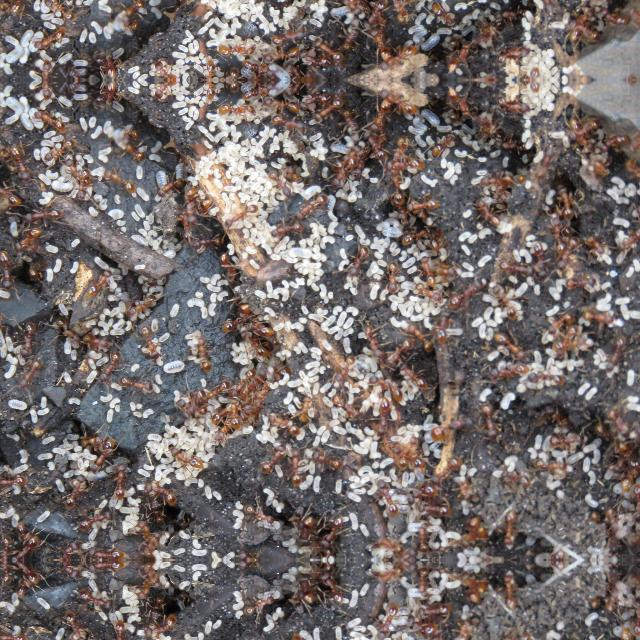Myrmica: (597, 398, 639, 448), (421, 452, 467, 496), (544, 320, 590, 362), (448, 510, 494, 552), (448, 568, 494, 610), (597, 502, 629, 558), (597, 562, 629, 618), (366, 474, 404, 520), (176, 182, 214, 228), (602, 330, 638, 378), (486, 280, 526, 322), (238, 498, 284, 534), (238, 586, 284, 622), (135, 474, 185, 506), (2, 141, 38, 185), (448, 276, 494, 310), (81, 436, 122, 474), (338, 242, 376, 282), (314, 512, 352, 552), (366, 600, 404, 640), (314, 568, 352, 608), (132, 322, 168, 364), (174, 382, 216, 418), (576, 302, 628, 331), (494, 505, 528, 549), (354, 320, 388, 364), (494, 571, 528, 615), (426, 408, 474, 439), (163, 441, 211, 472), (489, 330, 535, 362), (120, 287, 166, 319), (186, 328, 218, 374), (476, 397, 508, 443), (364, 19, 398, 62), (476, 359, 532, 385), (254, 438, 292, 476), (10, 355, 48, 393), (48, 312, 86, 350), (308, 444, 356, 474), (218, 300, 258, 336), (364, 98, 398, 140), (551, 235, 583, 279), (490, 462, 536, 492), (284, 192, 330, 222), (440, 82, 476, 120), (229, 364, 267, 400), (368, 395, 399, 439), (56, 471, 90, 511), (108, 132, 148, 166), (395, 358, 435, 392), (380, 333, 420, 367), (566, 112, 606, 146), (40, 134, 80, 168), (566, 14, 606, 48), (468, 198, 510, 230), (218, 200, 260, 232), (366, 532, 414, 560), (366, 560, 414, 588), (440, 41, 476, 78), (327, 389, 368, 421), (135, 614, 185, 640), (526, 454, 580, 478), (94, 350, 130, 386), (82, 266, 120, 300), (326, 152, 358, 192), (368, 368, 409, 399), (98, 166, 140, 196), (610, 453, 640, 495), (14, 317, 44, 359), (376, 258, 406, 300), (61, 153, 95, 190), (17, 202, 69, 226), (396, 222, 444, 248), (394, 192, 446, 216), (27, 28, 71, 56), (472, 110, 508, 144), (237, 326, 273, 360), (386, 132, 422, 166), (399, 318, 435, 352), (472, 16, 508, 50), (115, 373, 162, 399), (266, 408, 308, 437), (536, 400, 574, 432), (563, 116, 595, 154), (563, 6, 595, 44), (74, 506, 120, 532), (266, 113, 312, 139), (74, 588, 120, 614), (266, 21, 312, 47), (27, 105, 71, 132), (342, 136, 371, 176), (264, 166, 298, 200), (288, 84, 336, 108), (54, 608, 90, 640), (288, 52, 336, 76), (106, 461, 134, 502), (309, 94, 346, 125), (409, 278, 447, 308), (328, 350, 358, 388), (386, 42, 424, 72), (108, 0, 148, 28), (309, 36, 346, 66), (527, 363, 573, 387), (474, 170, 520, 194), (386, 89, 424, 118), (494, 256, 536, 282), (240, 385, 274, 417), (20, 248, 52, 282), (92, 80, 128, 110), (428, 308, 458, 344), (212, 248, 242, 284), (292, 510, 322, 546), (294, 388, 324, 424), (92, 50, 128, 80), (292, 574, 322, 610), (39, 0, 80, 26), (408, 520, 436, 558), (408, 562, 436, 600), (266, 218, 310, 242), (0, 246, 20, 298), (284, 448, 310, 488), (490, 92, 532, 116), (412, 496, 454, 520), (152, 172, 188, 200), (544, 426, 586, 450), (490, 44, 532, 68), (412, 600, 454, 624), (426, 128, 459, 158), (426, 2, 459, 32), (81, 328, 119, 354), (452, 470, 481, 504), (562, 270, 602, 294), (187, 230, 227, 254), (12, 226, 46, 254), (140, 492, 168, 526), (140, 594, 168, 628), (594, 128, 630, 154), (594, 6, 630, 32), (207, 398, 236, 430), (386, 156, 428, 178), (385, 0, 420, 26), (413, 252, 443, 282), (553, 186, 581, 218), (148, 80, 188, 102), (488, 134, 528, 156), (148, 58, 188, 80), (488, 4, 528, 26), (263, 46, 307, 66), (10, 536, 46, 560), (80, 542, 128, 560), (10, 560, 46, 584), (80, 560, 128, 578), (217, 100, 260, 120), (217, 40, 260, 60), (336, 106, 364, 136), (584, 231, 612, 261), (336, 24, 364, 54), (263, 95, 307, 114), (544, 218, 566, 256), (0, 466, 32, 492), (584, 154, 616, 180), (24, 80, 60, 102), (534, 145, 556, 181), (24, 58, 60, 80), (16, 522, 44, 550), (16, 570, 44, 598), (395, 436, 419, 468), (368, 128, 392, 160), (616, 219, 640, 251), (248, 314, 280, 338), (391, 442, 423, 466), (368, 0, 392, 32), (534, 544, 580, 560), (421, 624, 467, 640), (534, 560, 580, 576), (0, 192, 24, 222), (450, 616, 480, 640), (340, 0, 370, 24), (0, 112, 20, 146), (0, 12, 20, 46), (128, 515, 154, 541), (128, 579, 154, 605), (224, 543, 266, 559), (224, 561, 266, 577), (52, 538, 82, 560), (62, 80, 92, 102), (52, 560, 82, 582), (62, 58, 92, 80), (174, 204, 192, 240), (70, 428, 104, 447), (1, 0, 36, 18), (140, 527, 162, 555), (140, 565, 162, 593), (106, 18, 140, 36), (537, 240, 551, 282), (106, 125, 140, 142), (106, 618, 132, 640), (490, 628, 536, 640), (195, 80, 222, 100), (195, 60, 222, 80), (622, 154, 640, 182), (610, 624, 638, 640), (0, 626, 32, 640), (462, 80, 506, 90), (462, 70, 506, 80), (626, 127, 640, 157), (626, 3, 640, 33), (172, 146, 190, 168), (0, 533, 14, 559), (0, 561, 14, 587), (517, 80, 547, 92), (517, 68, 547, 80), (220, 80, 244, 94), (220, 66, 244, 80), (198, 195, 212, 218), (534, 0, 556, 14), (170, 0, 190, 14), (286, 80, 330, 86), (286, 74, 330, 80), (326, 0, 358, 8), (282, 632, 310, 640), (584, 0, 614, 6)
